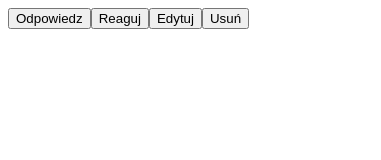
Scenario: MessageActions › the edit form's Pinguj is off each time it opens, also after a ticked save
Later steps or results of the test are not shown.
Click the button "Edytuj" at (175, 18), box [149, 8, 202, 29]
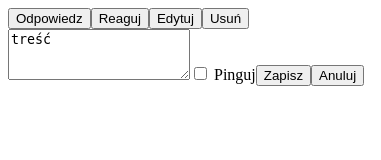
Click the checkbox labelled "Pinguj" at (200, 74), box [194, 67, 207, 80]
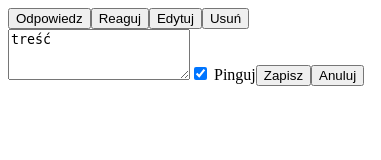
Check: the checkbox labelled "Pinguj" is checked, box [194, 67, 207, 80]
Click the button "Anuluj" at (338, 76), box [311, 65, 364, 86]
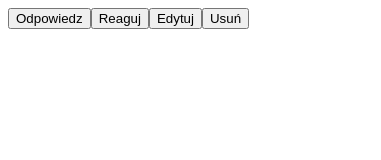
Click the button "Edytuj" at (175, 18), box [149, 8, 202, 29]
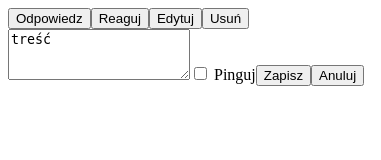
Check: the checkbox labelled "Pinguj" is not checked, box [194, 67, 207, 80]
